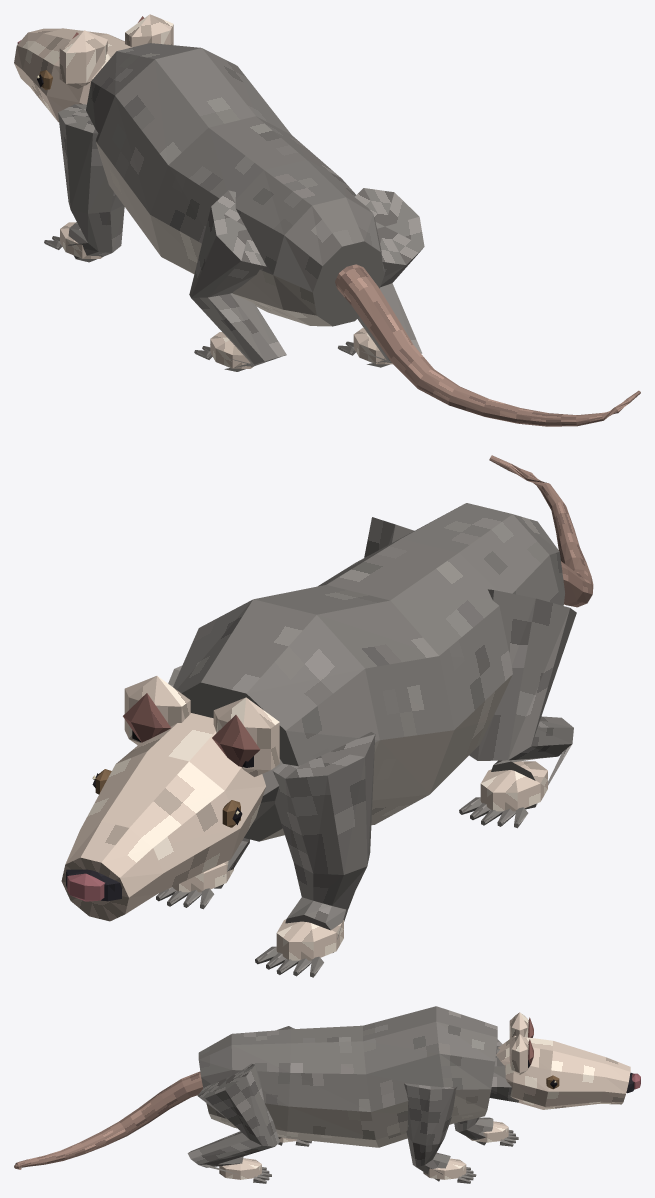
The model's file is mon_opossum.glb.
3 views of the same model, one above another, from view 1: azimuth 30°, elevation 25°; view 2: azimuth 150°, elevation 25°; view 3: azimuth 270°, elevation 25° (orthographic). The views are drawn at different scales.
Parts seen in each view (by area): view 1: closed_body; view 2: closed_body; view 3: closed_body.
Boxes of the visible parts, left/top/right/bottom form: closed_body: left=14, top=14, right=640, bottom=426; closed_body: left=61, top=455, right=593, bottom=977; closed_body: left=14, top=1006, right=640, bottom=1183.
Bounding box in the file's own units: 0.2443 × 0.2134 × 0.8088.
Materials: 1 (1 with a texture image).
